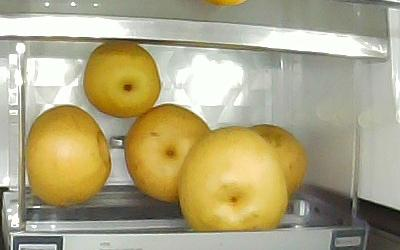pear: (178, 126, 289, 232), (122, 103, 214, 203), (26, 104, 112, 207), (84, 41, 161, 119), (243, 124, 309, 202)
